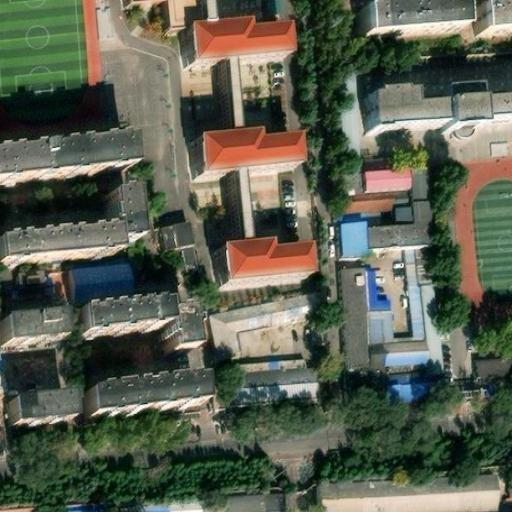building: (361, 75, 512, 136), (315, 473, 492, 512), (71, 299, 192, 352), (0, 138, 130, 185), (82, 372, 198, 418), (227, 348, 315, 408), (182, 21, 287, 71), (192, 134, 297, 184), (336, 208, 427, 264), (221, 299, 306, 358), (402, 251, 439, 376), (215, 245, 310, 293), (355, 0, 460, 42), (336, 169, 425, 212), (355, 353, 423, 405), (66, 261, 134, 309), (338, 263, 365, 371), (335, 64, 359, 173), (105, 189, 145, 247), (2, 390, 67, 424), (0, 307, 59, 342), (159, 222, 193, 271), (472, 0, 512, 38), (223, 490, 283, 512), (360, 269, 390, 310), (477, 350, 512, 378), (363, 339, 420, 356), (362, 309, 391, 342), (334, 172, 361, 202), (167, 503, 223, 512), (387, 209, 408, 232), (0, 499, 36, 512), (486, 137, 509, 155), (129, 506, 167, 512), (62, 506, 95, 512)
